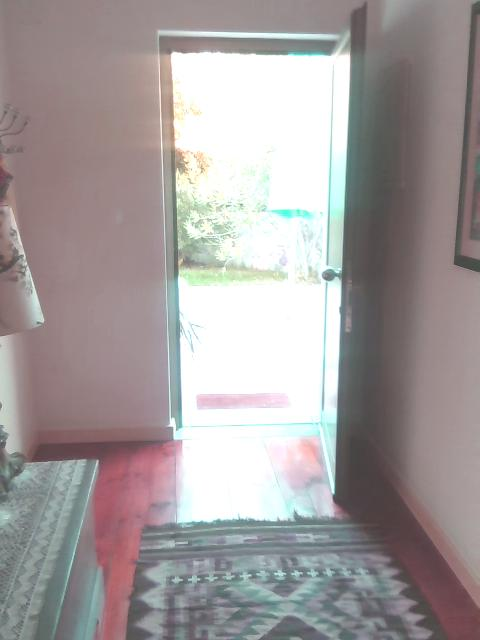open_door: (154, 23, 345, 437)
